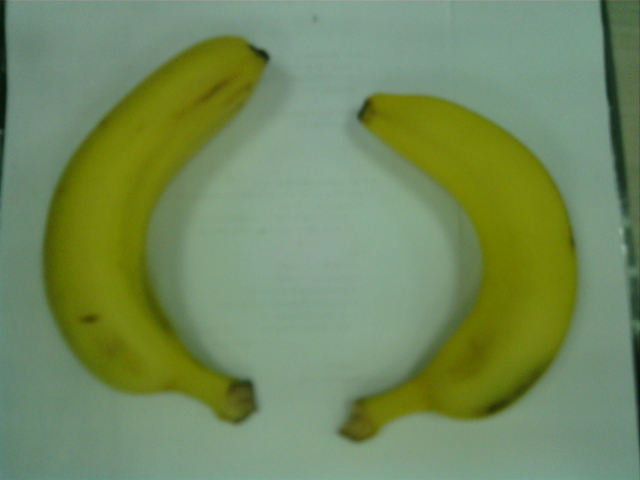normal_banana: (43, 36, 269, 425), (338, 92, 576, 444)
